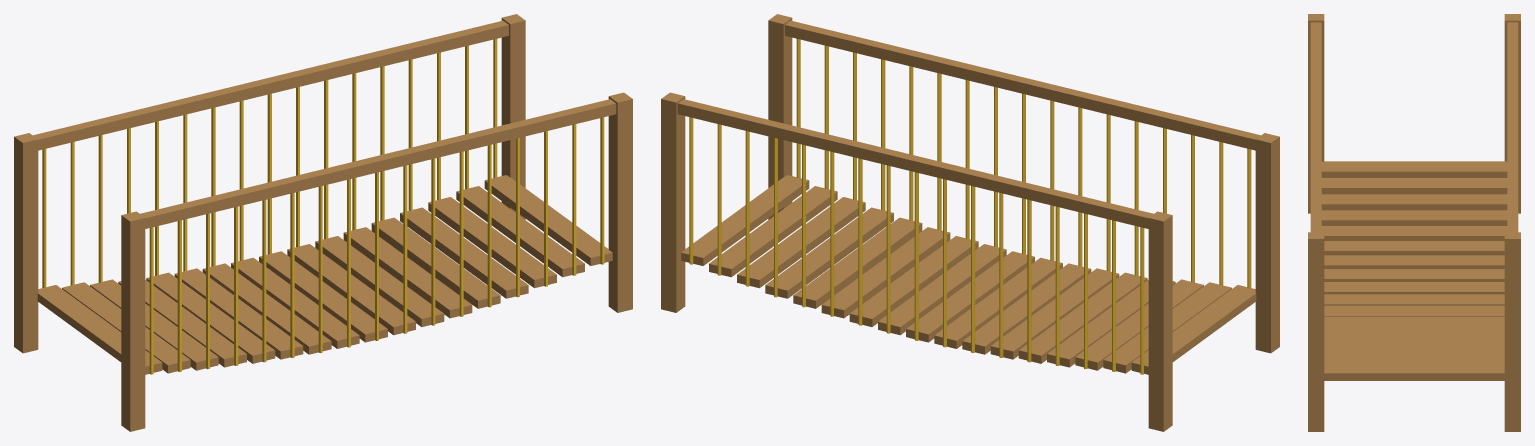
3 views of the same model, side by side, from view 1: azimuth 30°, elevation 25°; view 2: azimuth 150°, elevation 25°; view 3: azimuth 270°, elevation 25° (orthographic). The views are drawn at different scales.
Visible parts, largest first — view 1: SW-A412; view 2: SW-A412; view 3: SW-A412.
Boxes of the visible parts, x1,y1,x2,y2 form: SW-A412: (14,14,632,431); SW-A412: (661,14,1279,431); SW-A412: (1308,14,1520,431).
Bounding box in the file's own units: 3 × 1.2 × 1.2.
